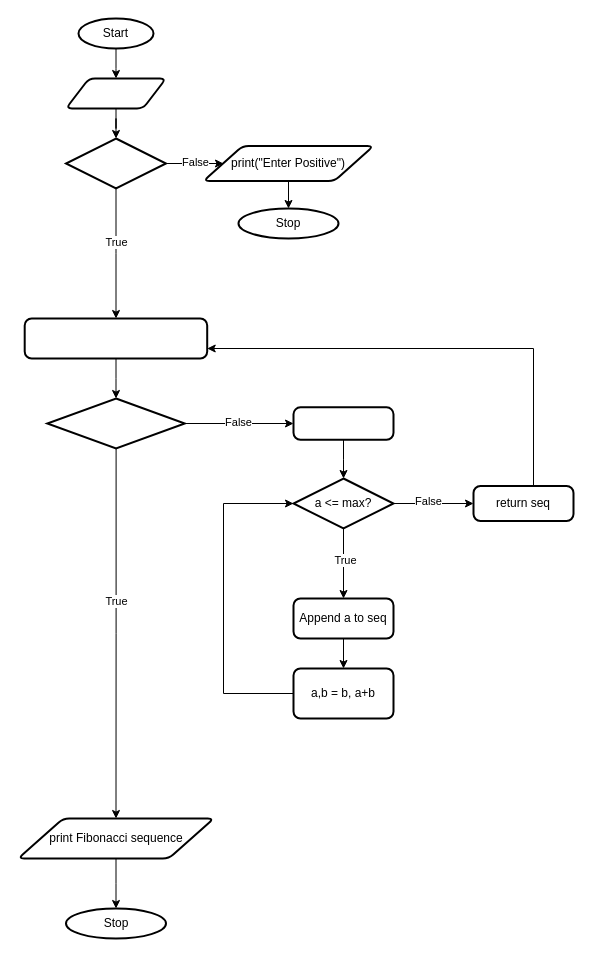
Image size: 592x956. Some labels were removed from this diagram. Here are the shapes that lost their labels. From the top down, the centre of each, then its label:
At (115,93): "Input n".
At (115,163): "n > 0?".
At (115,338): "Call function generate_fibonacci_sequence(n)".
At (115,423): "max_value <= 0?".
At (343,423): "seq=[] a=0,b=1".
